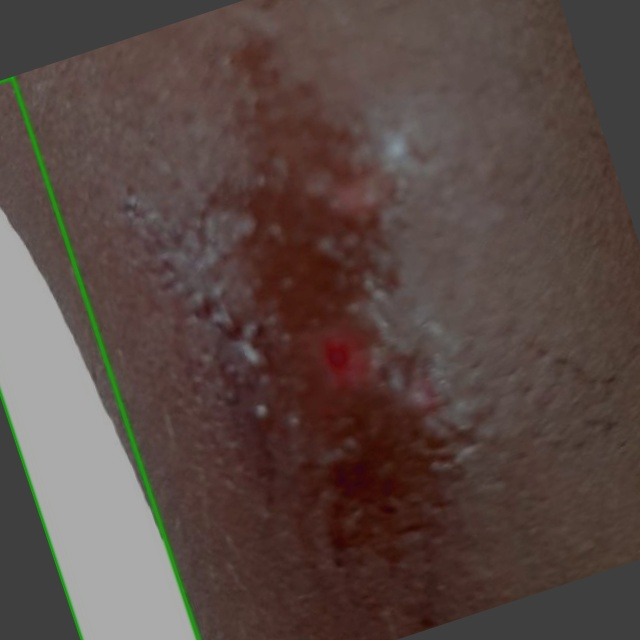Tinea Corporis: (0, 77, 198, 639)
